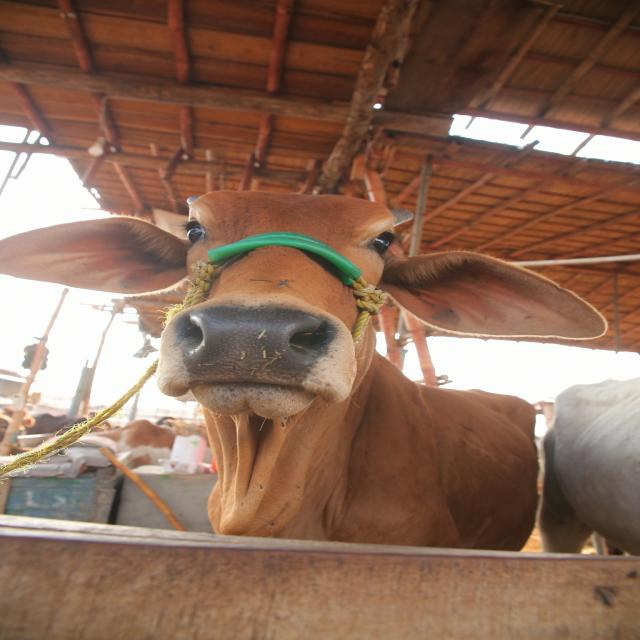muzzles: (162, 300, 340, 397)
